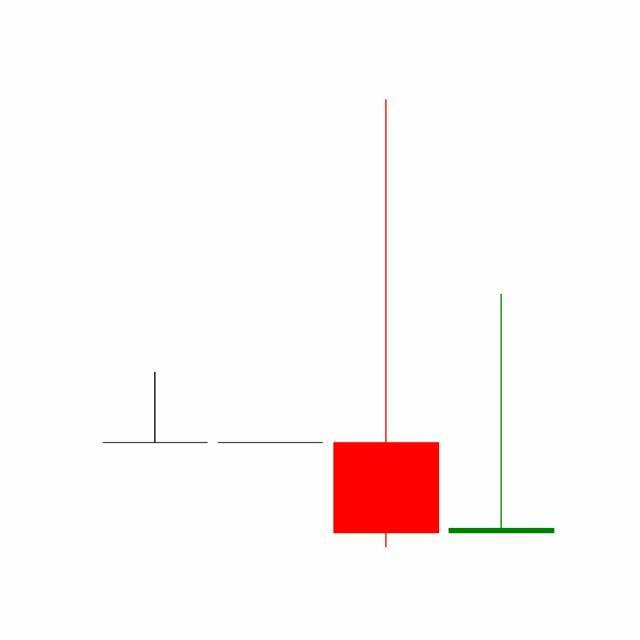Gravestone Doji: (444, 292, 560, 537)
